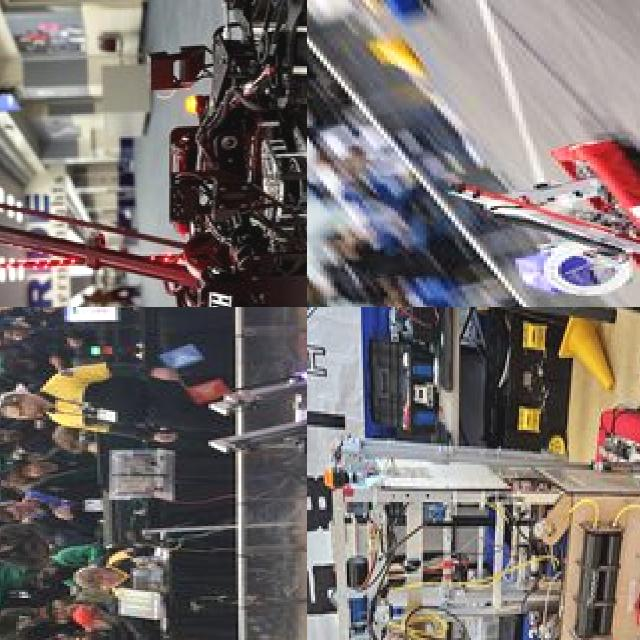FRC-Robots: (0, 0, 307, 307), (336, 408, 640, 640), (476, 117, 640, 307), (159, 307, 307, 501)
